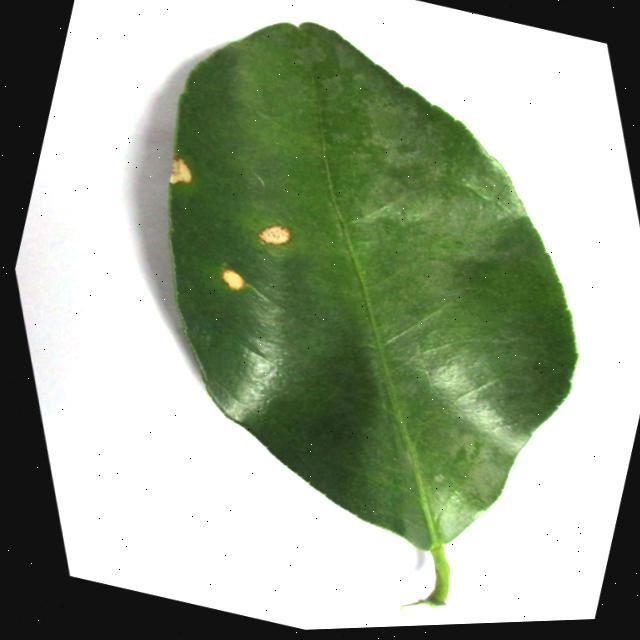antracnose: (169, 21, 576, 605), (258, 224, 291, 244), (169, 154, 191, 183), (222, 267, 245, 289)
